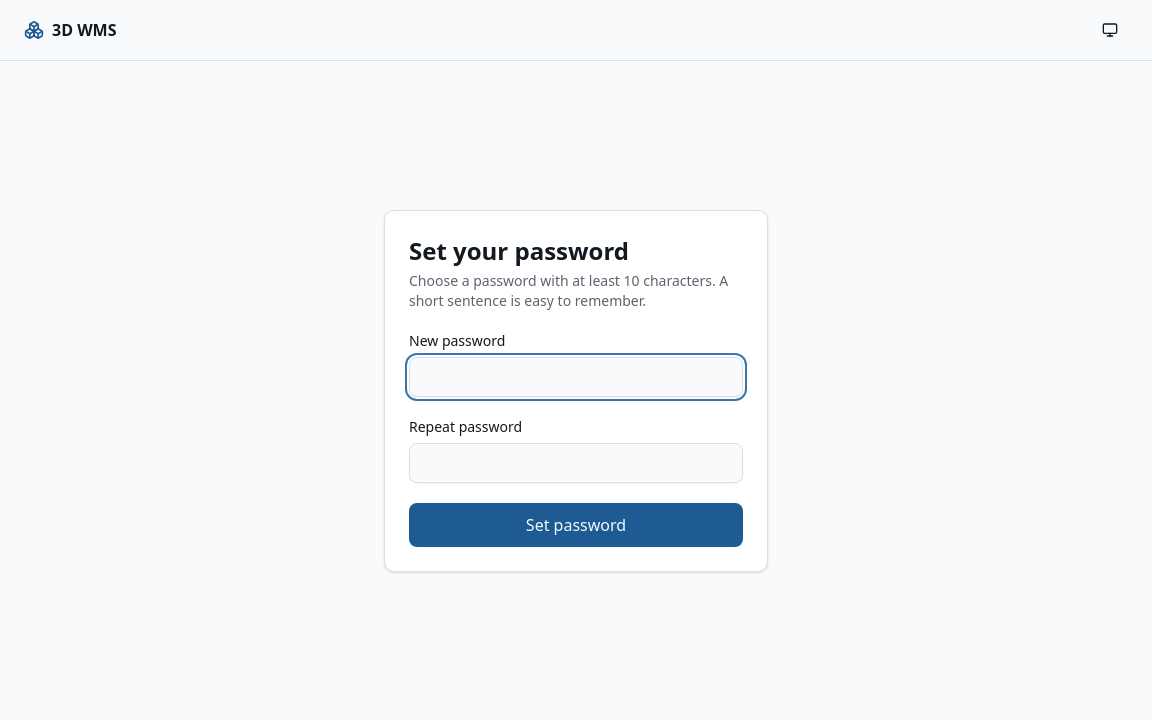
Test: InvitePage › takes the token from the #fragment, clears it from the address bar and sends it
The image size is (1152, 720).
Later steps or results of the test are not shown.
In the password field labelled "New password": [576, 376] box [409,356,743,396], type "a long passphrase"
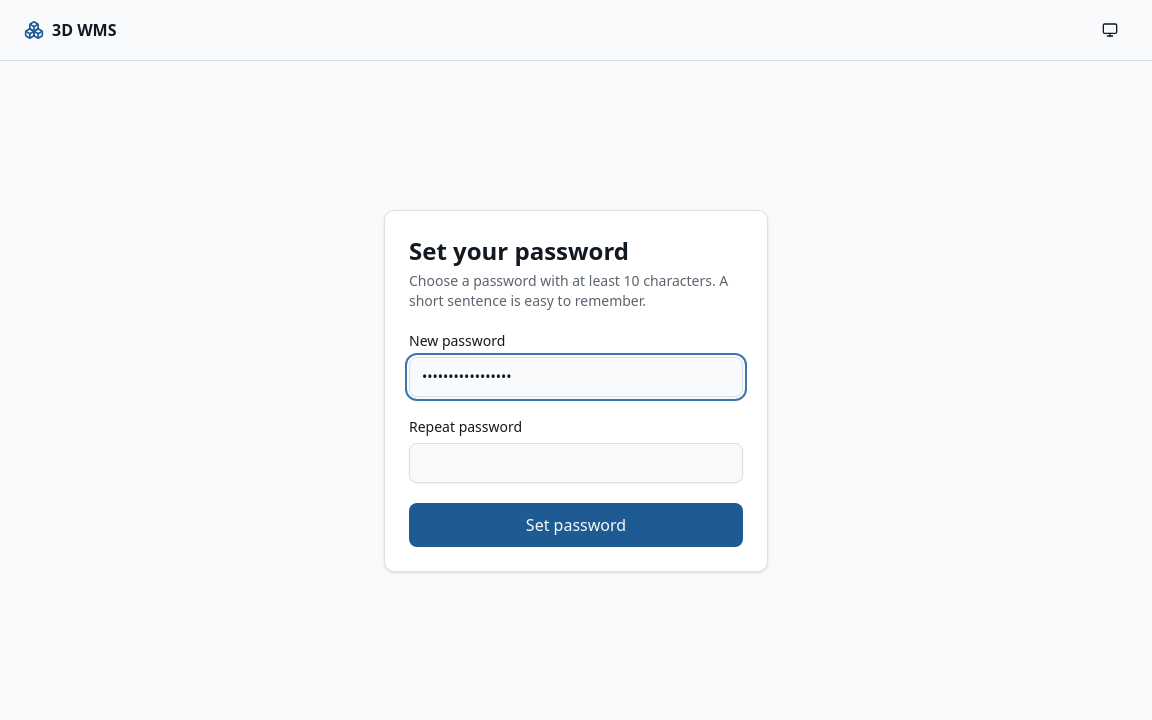
In the password field labelled "Repeat password": [576, 462] box [409,442,743,482], type "a different one!"
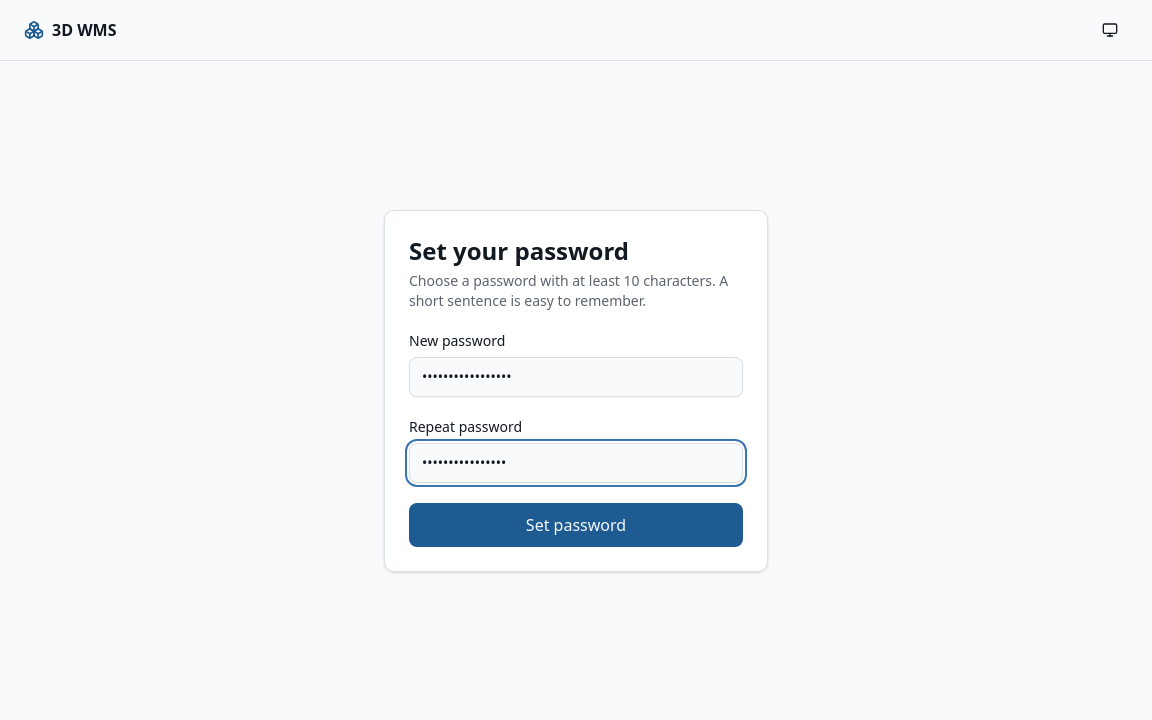
Click the button "Set password": [576, 524] box [409,502,743,546]
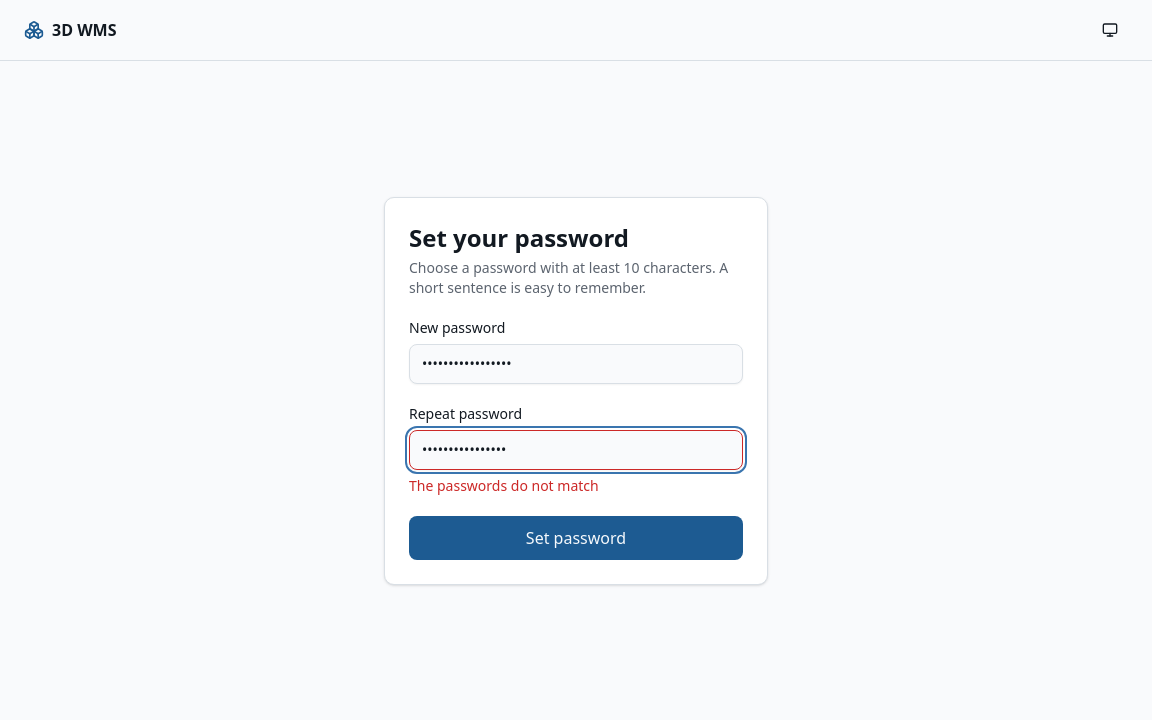
Now the text "The passwords do not match" is shown, box [409,476,599,494]
